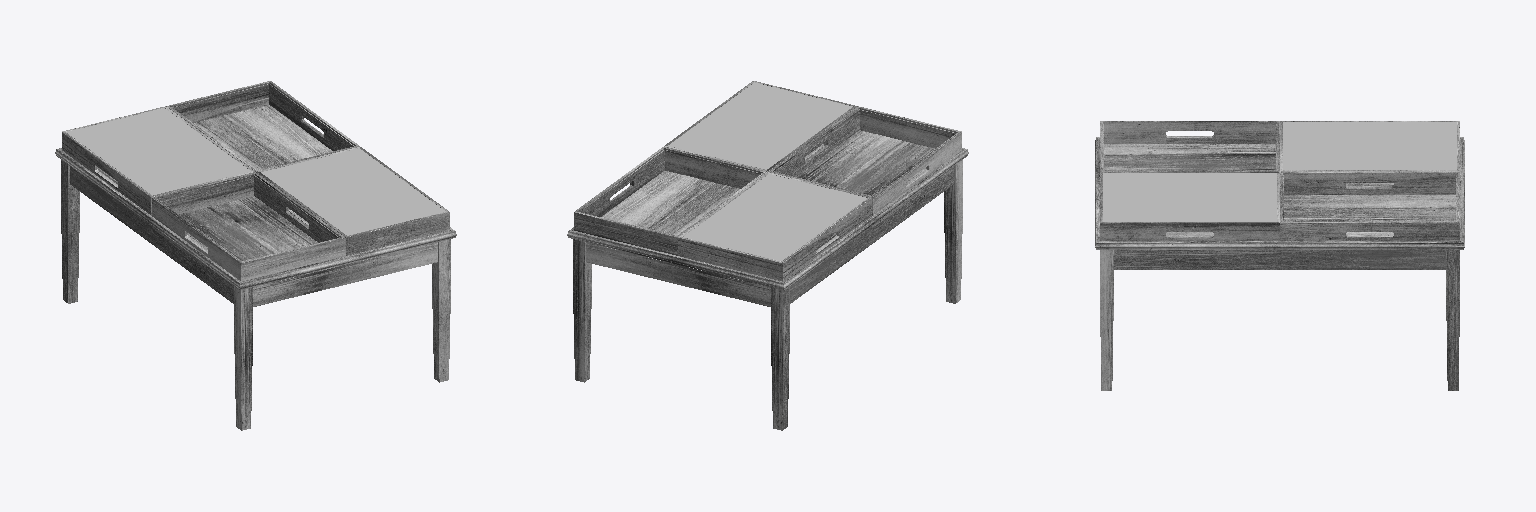
3 views of the same model, side by side, from view 1: azimuth 30°, elevation 25°; view 2: azimuth 150°, elevation 25°; view 3: azimuth 270°, elevation 25° (orthographic).
Parts seen in each view (by area): view 1: Living_r_table_Cube, box_table3_Plane.013, box_table2_Plane.012, glass_plane4_Plane.008, glass_plane_Plane.005, Living_r_table_mod_Cube.001, box_table4_Plane.014, box_table1_Plane.001; view 2: Living_r_table_Cube, box_table2_Plane.012, box_table3_Plane.013, glass_plane4_Plane.008, glass_plane_Plane.005, box_table1_Plane.001, Living_r_table_mod_Cube.001, box_table4_Plane.014; view 3: box_table2_Plane.012, Living_r_table_Cube, box_table3_Plane.013, glass_plane4_Plane.008, glass_plane_Plane.005, Living_r_table_mod_Cube.001, box_table4_Plane.014, box_table1_Plane.001.
Boxes of the visible parts, <box> form: Living_r_table_Cube: <box>61,160,450,430</box>; box_table3_Plane.013: <box>152,172,345,281</box>; box_table2_Plane.012: <box>166,81,359,171</box>; glass_plane4_Plane.008: <box>261,148,445,235</box>; glass_plane_Plane.005: <box>66,108,250,195</box>; Living_r_table_mod_Cube.001: <box>55,120,456,289</box>; box_table4_Plane.014: <box>256,147,449,255</box>; box_table1_Plane.001: <box>62,106,254,215</box>; Living_r_table_Cube: <box>573,160,962,430</box>; box_table2_Plane.012: <box>574,147,767,255</box>; box_table3_Plane.013: <box>769,106,961,215</box>; glass_plane4_Plane.008: <box>668,82,852,169</box>; glass_plane_Plane.005: <box>683,174,867,260</box>; box_table1_Plane.001: <box>678,172,871,281</box>; Living_r_table_mod_Cube.001: <box>567,148,968,289</box>; box_table4_Plane.014: <box>664,81,857,171</box>; box_table2_Plane.012: <box>1280,172,1459,240</box>; Living_r_table_Cube: <box>1100,250,1459,390</box>; box_table3_Plane.013: <box>1100,121,1279,171</box>; glass_plane4_Plane.008: <box>1103,173,1276,221</box>; glass_plane_Plane.005: <box>1283,122,1456,169</box>; Living_r_table_mod_Cube.001: <box>1095,137,1464,249</box>; box_table4_Plane.014: <box>1100,172,1279,240</box>; box_table1_Plane.001: <box>1280,121,1459,186</box>.
Bounding box in the file's own units: 0.7255 × 0.5362 × 1.07.
Materials: 2 (1 with a texture image).